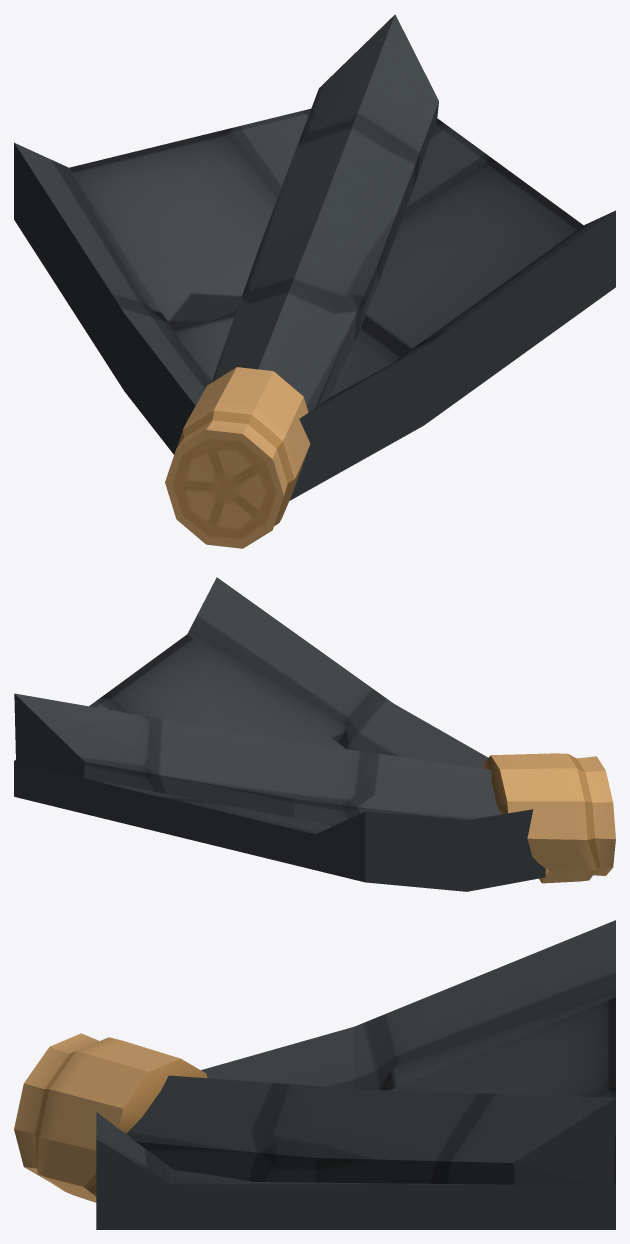
Rendered from SM_Bld_Roof_Corner_Small_02.fbx.
3 views of the same model, one above another, from view 1: azimuth 30°, elevation 25°; view 2: azimuth 150°, elevation 25°; view 3: azimuth 270°, elevation 25° (orthographic). The views are drawn at different scales.
Visible parts, largest first — view 1: SM_Bld_Roof_Corner_Small_02; view 2: SM_Bld_Roof_Corner_Small_02; view 3: SM_Bld_Roof_Corner_Small_02.
Boxes of the visible parts, <box> form: SM_Bld_Roof_Corner_Small_02: <box>14,14,615,548</box>; SM_Bld_Roof_Corner_Small_02: <box>14,577,615,891</box>; SM_Bld_Roof_Corner_Small_02: <box>14,920,615,1229</box>.
Bounding box in the file's own units: 145 × 83.05 × 145.
